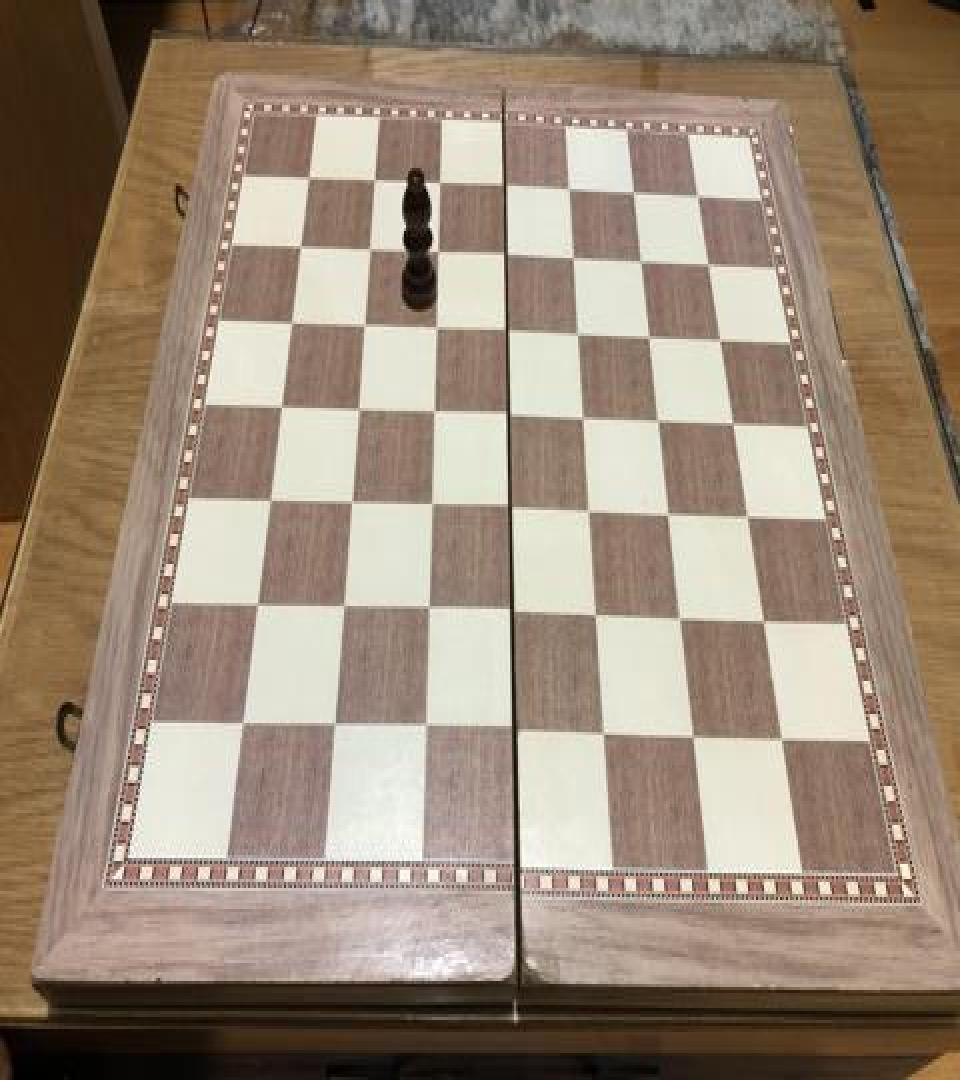xcorner: (754, 601, 778, 638), (772, 718, 796, 755), (504, 712, 528, 749), (688, 178, 712, 214), (624, 177, 648, 213), (560, 174, 584, 210), (495, 171, 519, 207), (429, 168, 453, 204), (364, 165, 388, 201), (298, 162, 322, 198), (699, 248, 723, 284), (632, 244, 656, 280), (564, 242, 588, 278), (496, 238, 520, 274), (427, 236, 451, 272), (359, 232, 383, 268), (289, 230, 313, 266), (710, 322, 734, 358), (640, 320, 664, 356), (569, 316, 593, 352), (497, 314, 521, 350), (425, 310, 449, 346), (353, 309, 377, 345), (280, 306, 304, 342), (723, 405, 747, 441), (649, 404, 673, 440), (574, 400, 598, 436), (499, 398, 523, 434), (423, 394, 447, 430), (347, 392, 371, 428), (270, 390, 294, 426), (738, 498, 762, 534), (659, 495, 683, 531), (580, 494, 604, 530), (500, 490, 524, 526), (420, 488, 444, 524), (339, 486, 363, 522), (258, 483, 282, 519), (670, 600, 694, 636), (587, 597, 611, 633), (502, 594, 526, 630), (417, 592, 441, 628), (331, 590, 355, 626), (245, 588, 269, 624), (683, 717, 707, 753), (594, 714, 618, 750), (414, 711, 438, 747), (322, 708, 346, 744), (230, 706, 254, 742)
